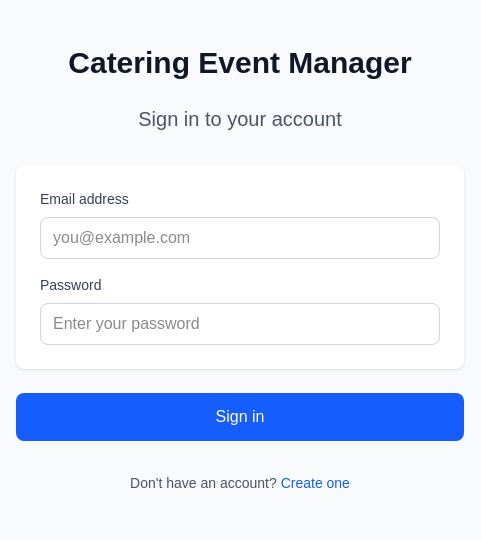
Test: LoginForm › shows error message on failed login
Type "test@example.com" into the field labelled "Email address" at (240, 238), box [40, 217, 440, 259]
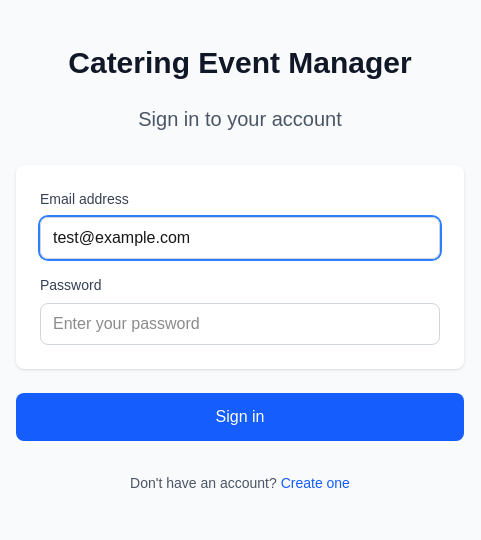
Type "wrongpassword" into the password field labelled "Password" at (240, 324), box [40, 303, 440, 345]
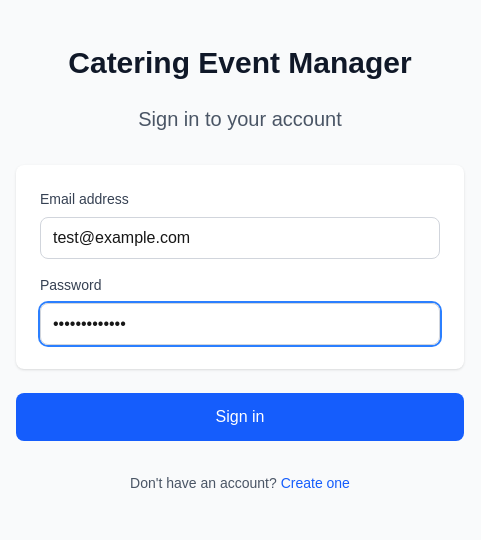
Click the button "Sign in" at (240, 417), box [16, 393, 464, 441]
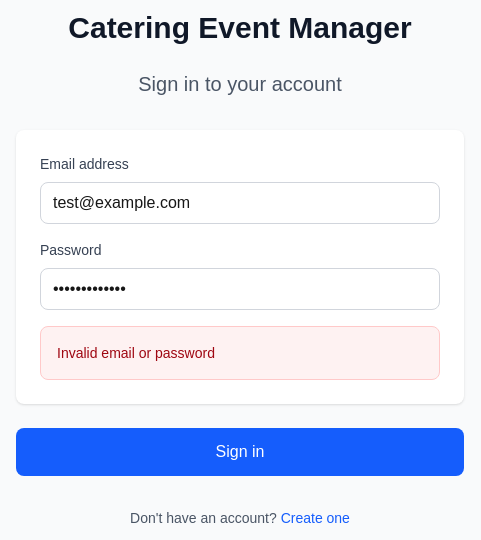
Now the text "Invalid email or password" is shown, box [57, 345, 215, 361]
